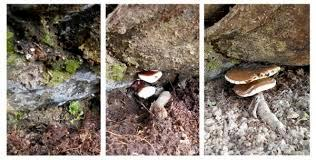Ganoderma - Fruit Body: (225, 67, 281, 84), (234, 78, 277, 98), (138, 69, 162, 84)
